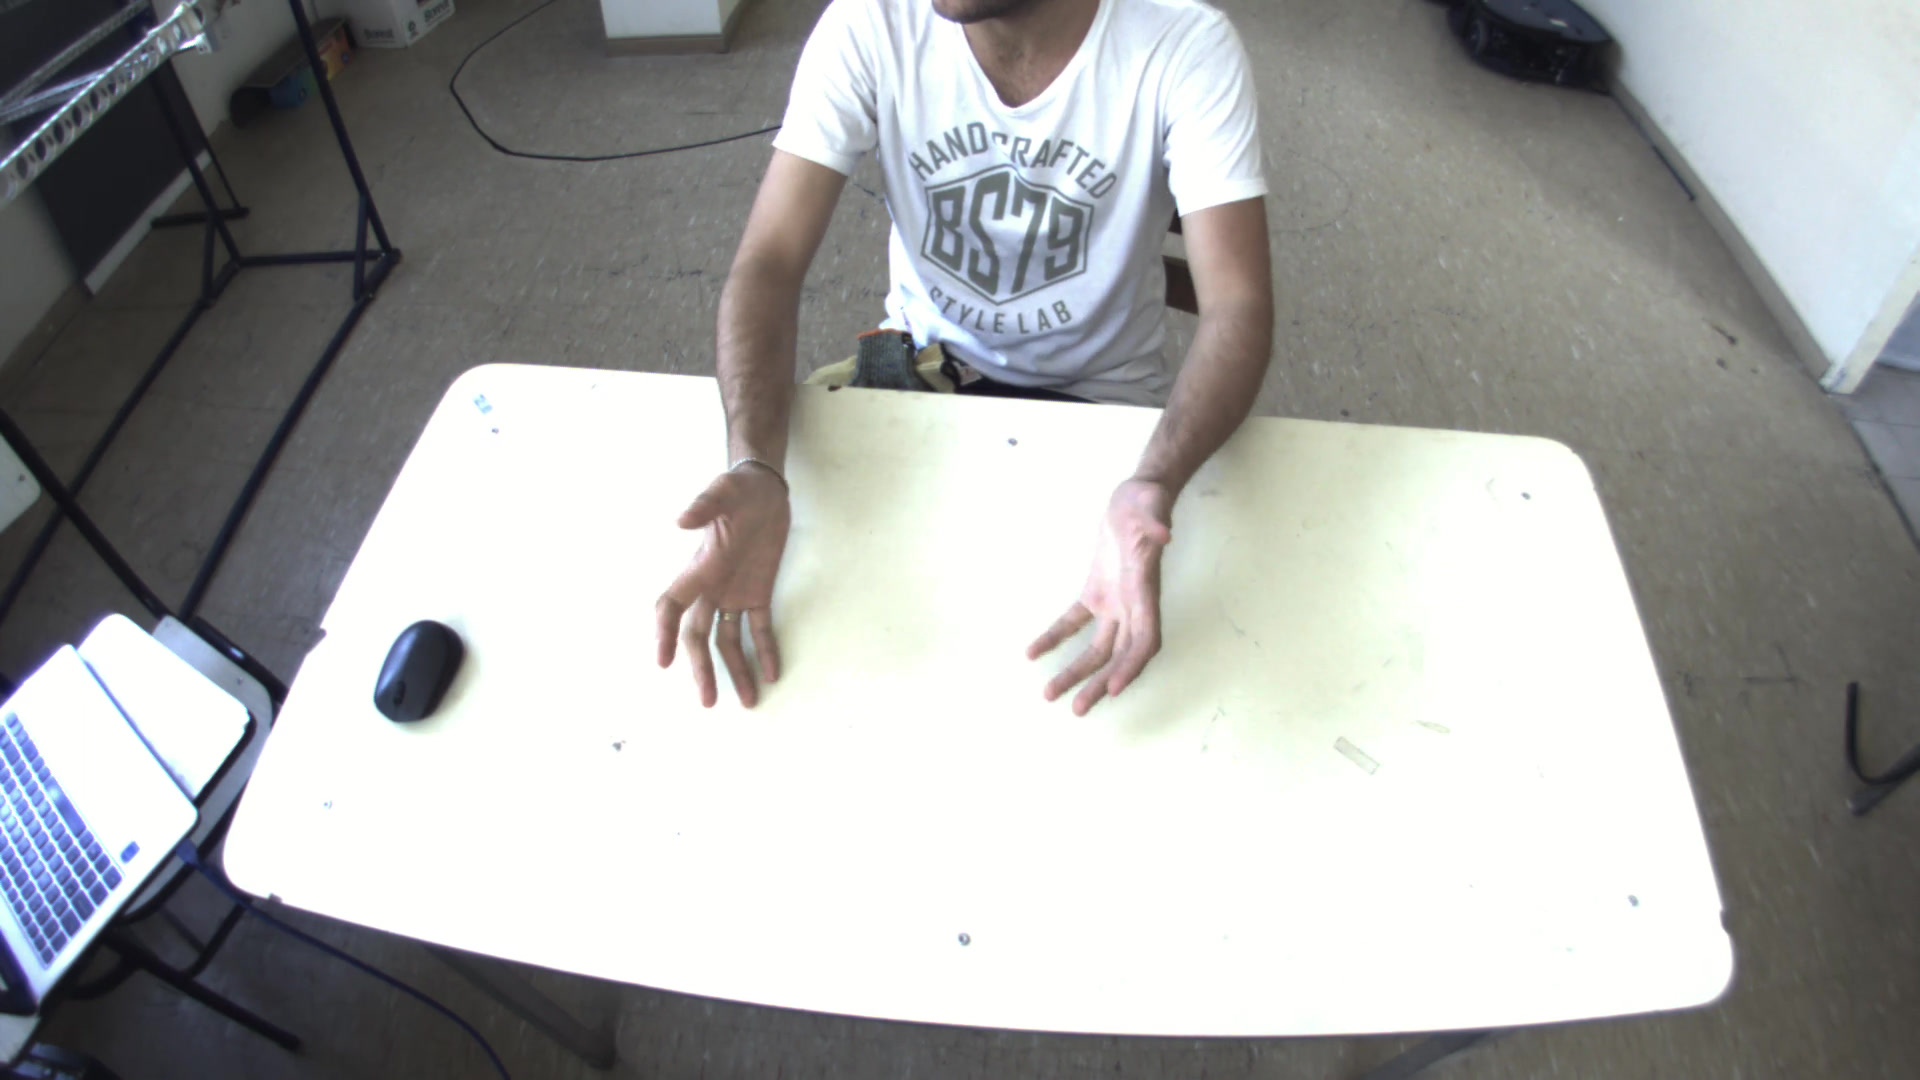hand: (642, 438, 800, 721), (1015, 480, 1193, 729)
